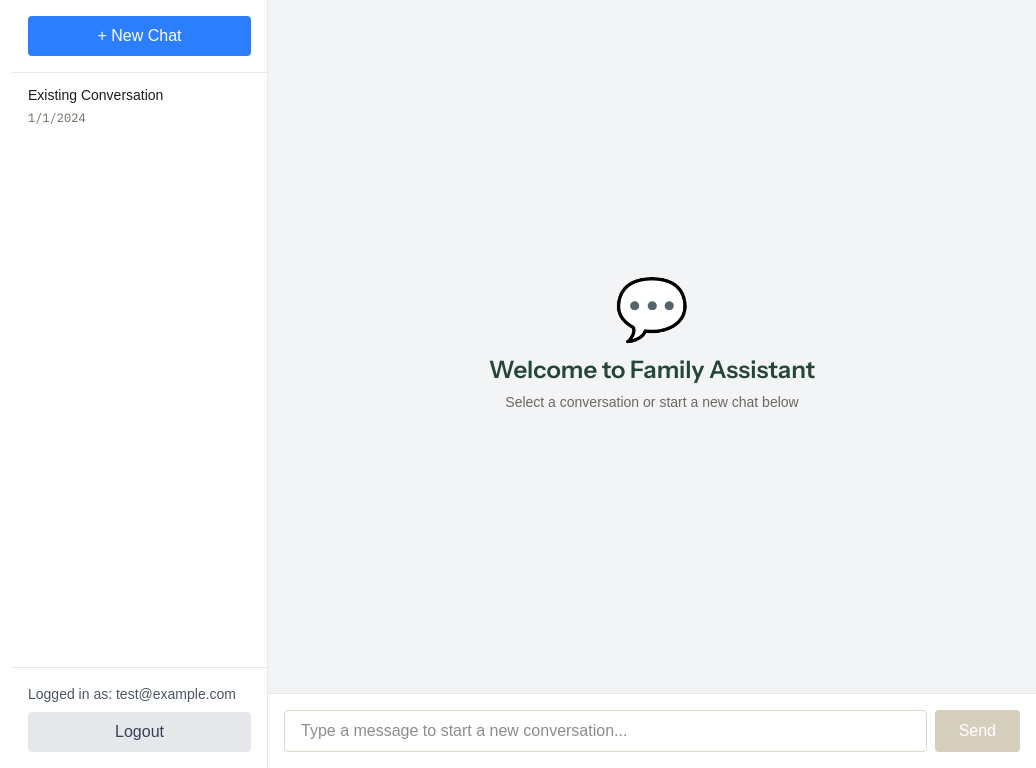
Test: ConversationsChat › Existing conversation flow › reconciles persisted messages after a streamed response
This screenshot has width=1036, height=768.
Click the text "Existing Conversation" at (96, 95), box x1=28 y1=87 x2=163 y2=103
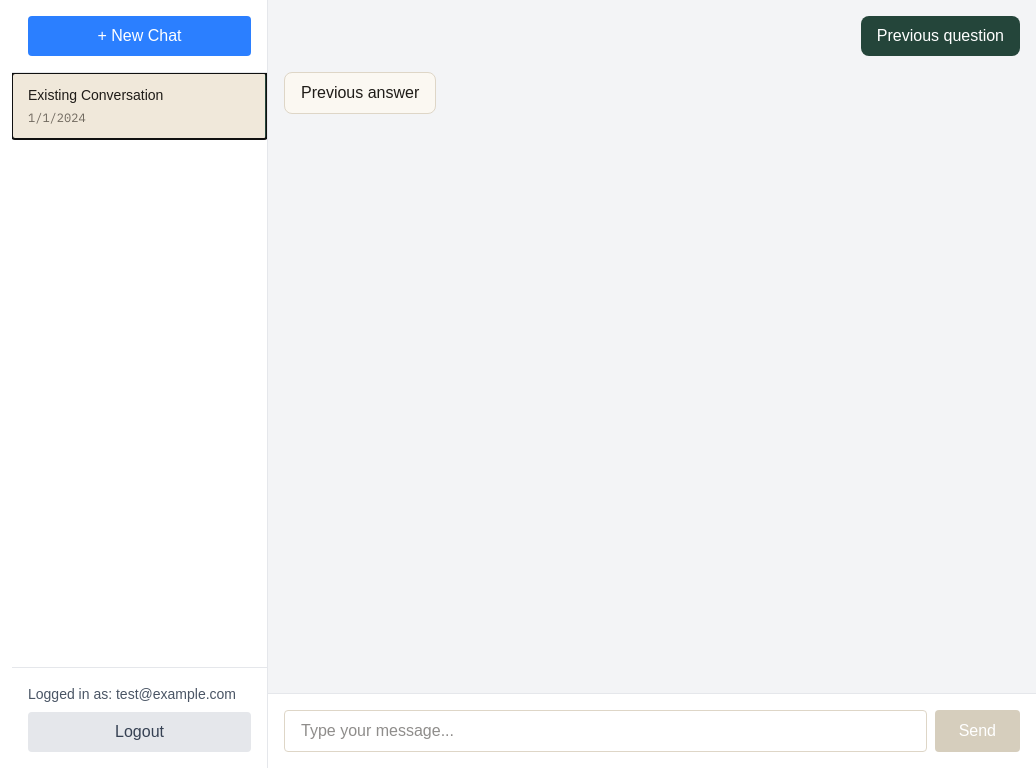
expect the text "Previous question" is shown: met, box x1=877 y1=24 x2=1004 y2=48
Type "Follow-up question" into the field with placeholder "Type your message..." at (605, 731), box x1=284 y1=710 x2=927 y2=752
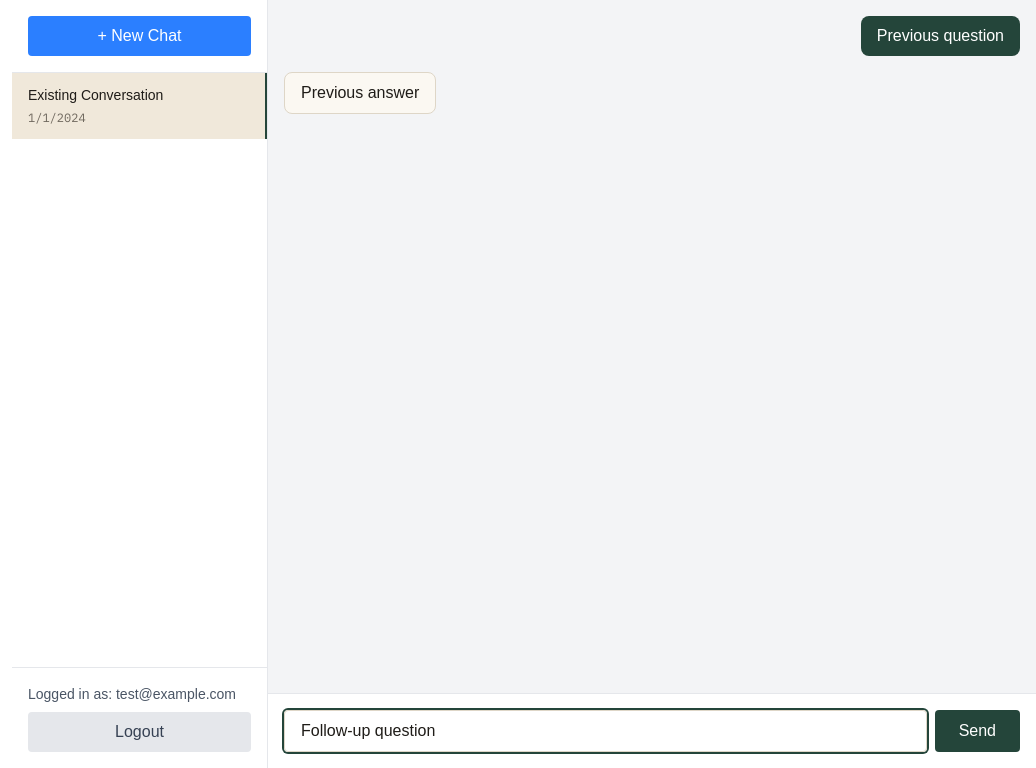
Click the button "Send" at (977, 731), box x1=935 y1=710 x2=1020 y2=752
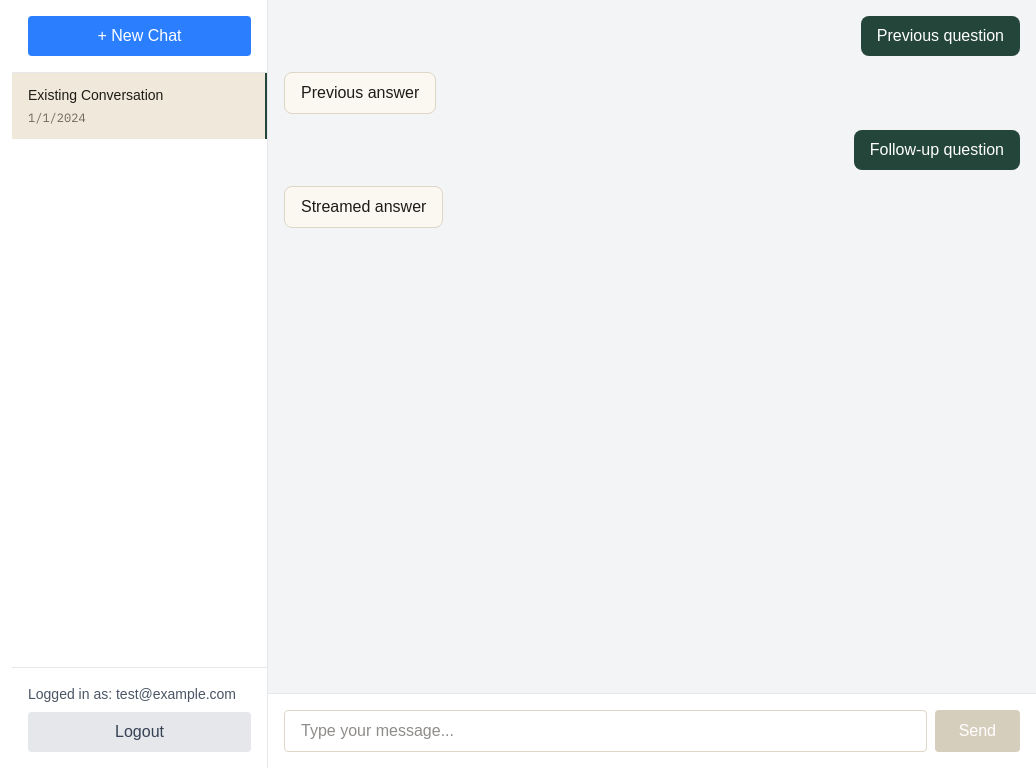
expect the text "Streamed answer" is shown: met, box x1=301 y1=195 x2=426 y2=219
expect the text "Follow-up question" is shown: met, box x1=870 y1=138 x2=1004 y2=162
